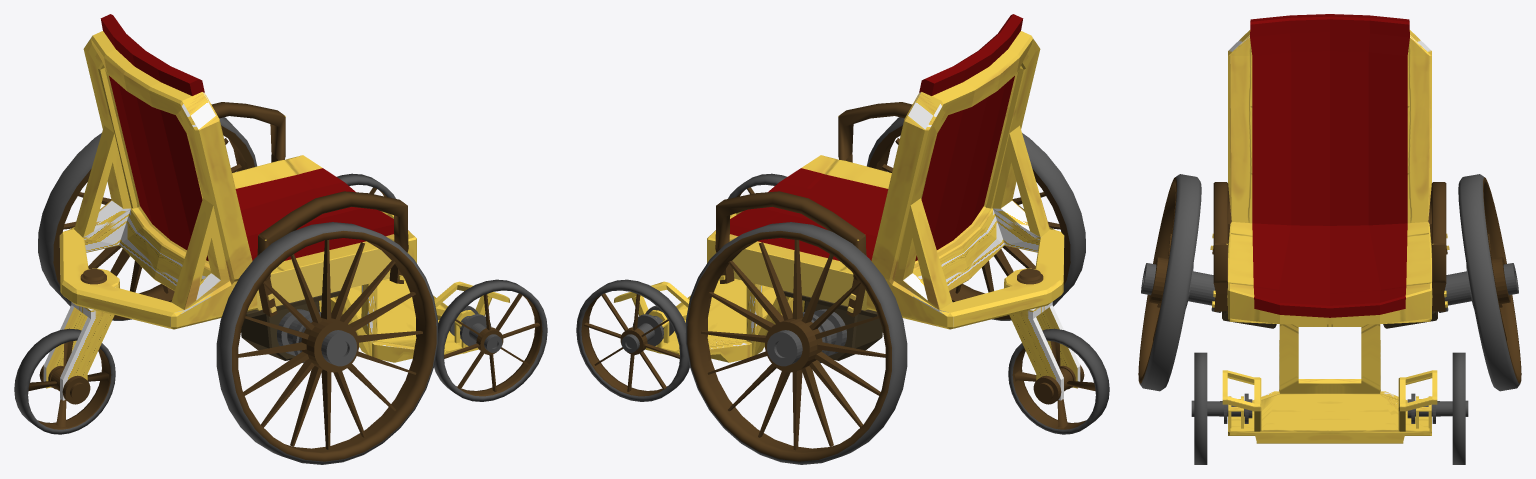
3 renders of one model, left to right at view 1: azimuth 30°, elevation 25°; view 2: azimuth 150°, elevation 25°; view 3: azimuth 270°, elevation 25°, orthographic. The views are drawn at different scales.
Parts seen in each view (by area): view 1: 001 Chair_2, 002 main wheels_3, 005 front wheels_4, 008 stabiliser wheel_5, Cube_9, 003 main wheel holders_8; view 2: 001 Chair_2, 002 main wheels_3, 005 front wheels_4, 008 stabiliser wheel_5, Cube_9, 003 main wheel holders_8; view 3: 001 Chair_2, 002 main wheels_3, 005 front wheels_4, 004 front forks_6, 003 main wheel holders_8.
Boxes of the visible parts, <box> form: 001 Chair_2: <box>59,14,509,362</box>; 002 main wheels_3: <box>38,117,438,464</box>; 005 front wheels_4: <box>337,173,547,401</box>; 008 stabiliser wheel_5: <box>14,328,115,434</box>; Cube_9: <box>43,302,114,400</box>; 003 main wheel holders_8: <box>241,290,340,360</box>; 001 Chair_2: <box>614,14,1064,362</box>; 002 main wheels_3: <box>685,117,1085,464</box>; 005 front wheels_4: <box>576,173,786,401</box>; 008 stabiliser wheel_5: <box>1008,328,1109,434</box>; Cube_9: <box>1009,302,1080,400</box>; 003 main wheel holders_8: <box>783,290,882,360</box>; 001 Chair_2: <box>1210,14,1449,443</box>; 002 main wheels_3: <box>1138,174,1521,391</box>; 005 front wheels_4: <box>1191,352,1468,464</box>; 004 front forks_6: <box>1228,396,1431,428</box>; 003 main wheel holders_8: <box>1222,311,1437,328</box>.
Bounding box in the file's own units: 4.29 × 3.28 × 3.52.
Materials: 8 (2 with a texture image).
